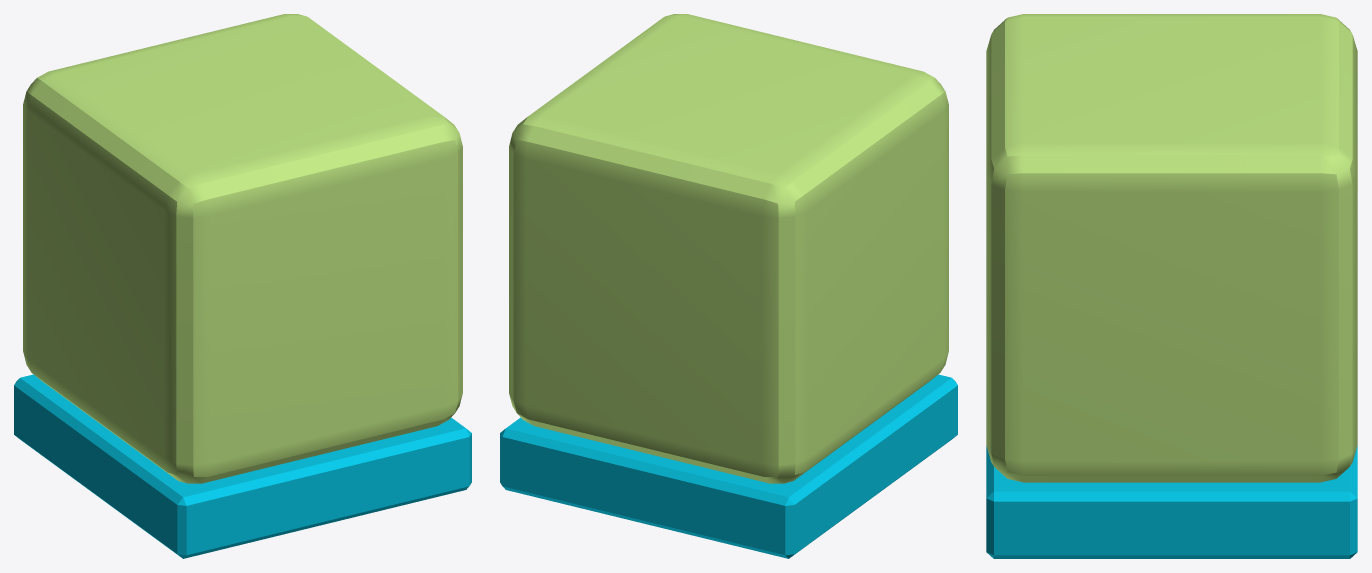
File: Wall.fbx
3 renders of one model, left to right at view 1: azimuth 30°, elevation 25°; view 2: azimuth 150°, elevation 25°; view 3: azimuth 270°, elevation 25°, orthographic. The views are drawn at different scales.
Visible parts, largest first — view 1: pCube2, pCube1; view 2: pCube2, pCube1; view 3: pCube2, pCube1.
Part boxes in pixels (bbox=[...]): pCube2: bbox=[23, 14, 462, 483]; pCube1: bbox=[14, 374, 471, 558]; pCube2: bbox=[509, 14, 948, 483]; pCube1: bbox=[500, 374, 957, 558]; pCube2: bbox=[986, 14, 1357, 482]; pCube1: bbox=[986, 446, 1357, 558].
Size of the model in its own units: 1 by 1.2 by 1.
